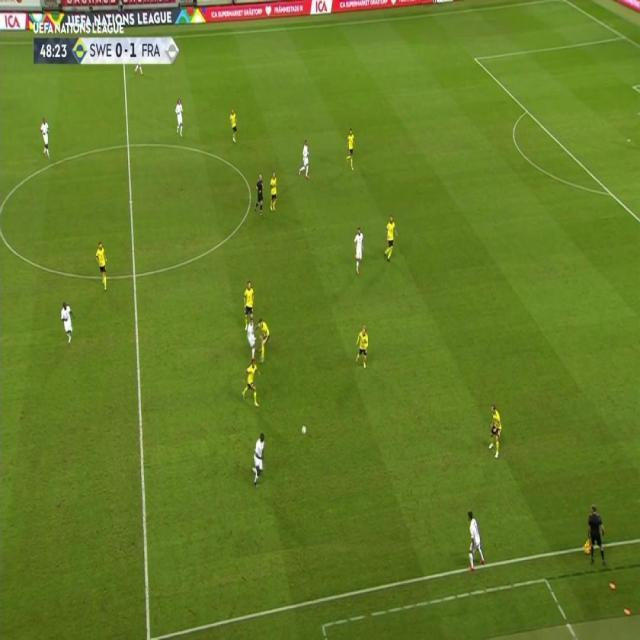ball: (301, 423, 307, 435)
player: (465, 508, 487, 572), (249, 431, 268, 489), (242, 356, 262, 408), (486, 403, 503, 460), (382, 215, 398, 264), (94, 240, 109, 290), (354, 324, 370, 370), (255, 316, 271, 362), (242, 278, 256, 330), (59, 300, 75, 345), (352, 226, 365, 275), (39, 117, 52, 160), (344, 126, 356, 170), (298, 139, 311, 179), (245, 318, 257, 360), (268, 170, 279, 212), (174, 96, 185, 137), (228, 107, 238, 143)
referee: (584, 502, 608, 566), (254, 173, 266, 217)
